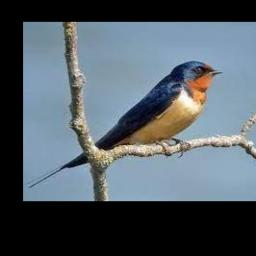Swallow: (26, 60, 222, 187)
